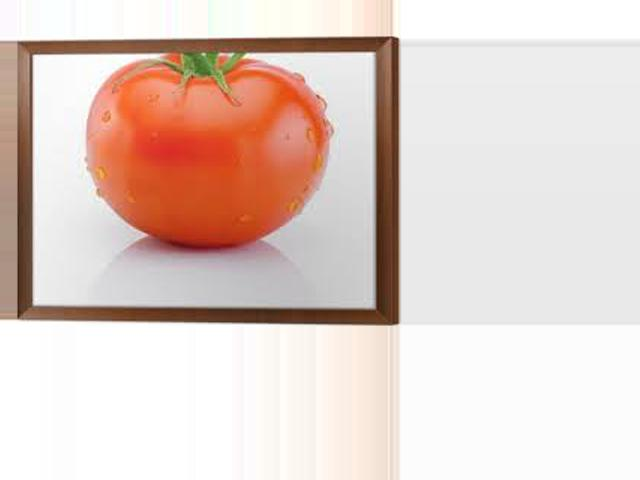tomato: (86, 51, 330, 248)
